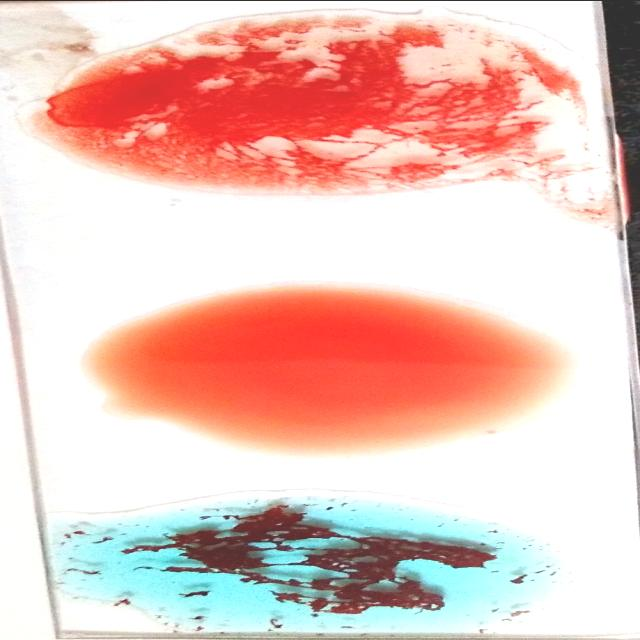A: (45, 494, 558, 634)
D: (34, 4, 568, 188)
